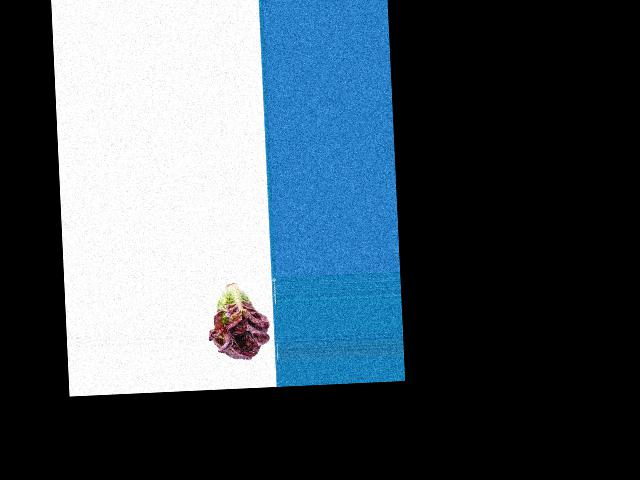lettuce: (208, 280, 271, 360)
